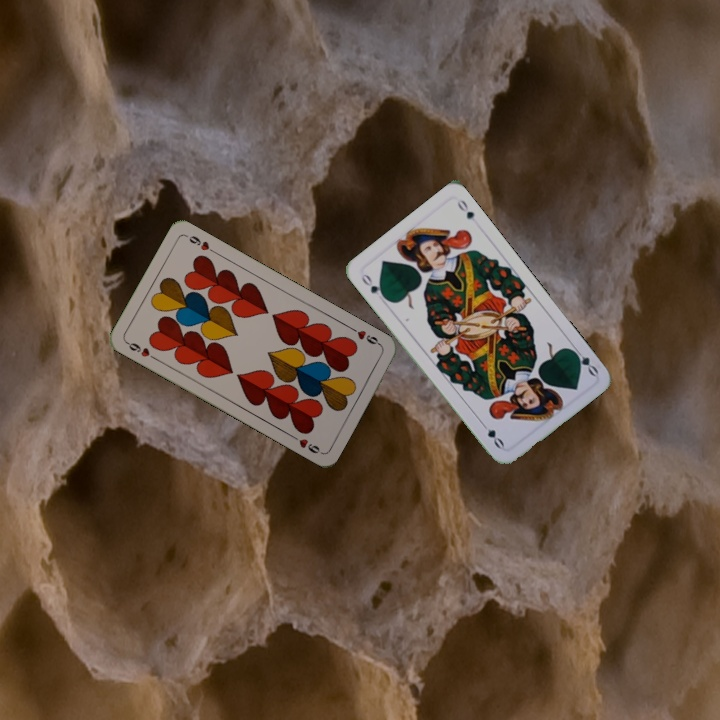GO: (567, 343, 601, 379), (357, 270, 389, 302)
H9: (122, 337, 159, 363), (347, 323, 384, 349)
